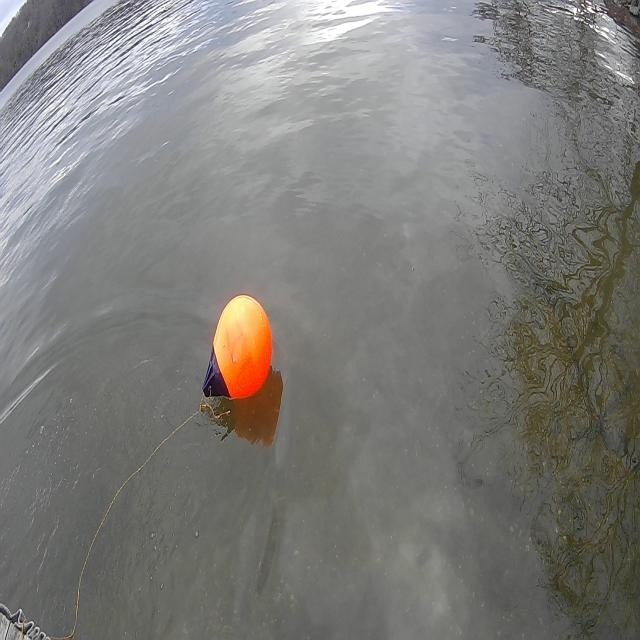Buoy: (209, 292, 275, 406)
